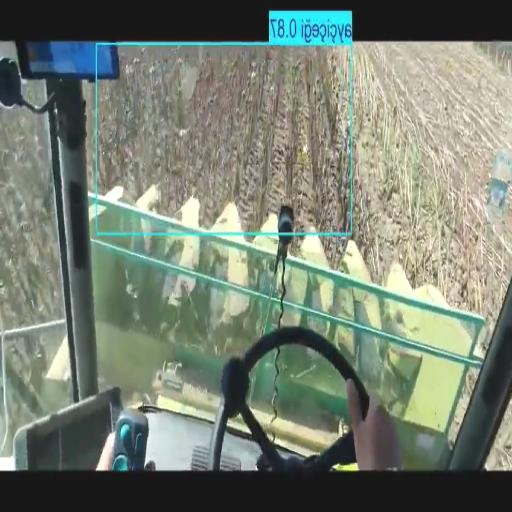ayc: (98, 47, 350, 230)
